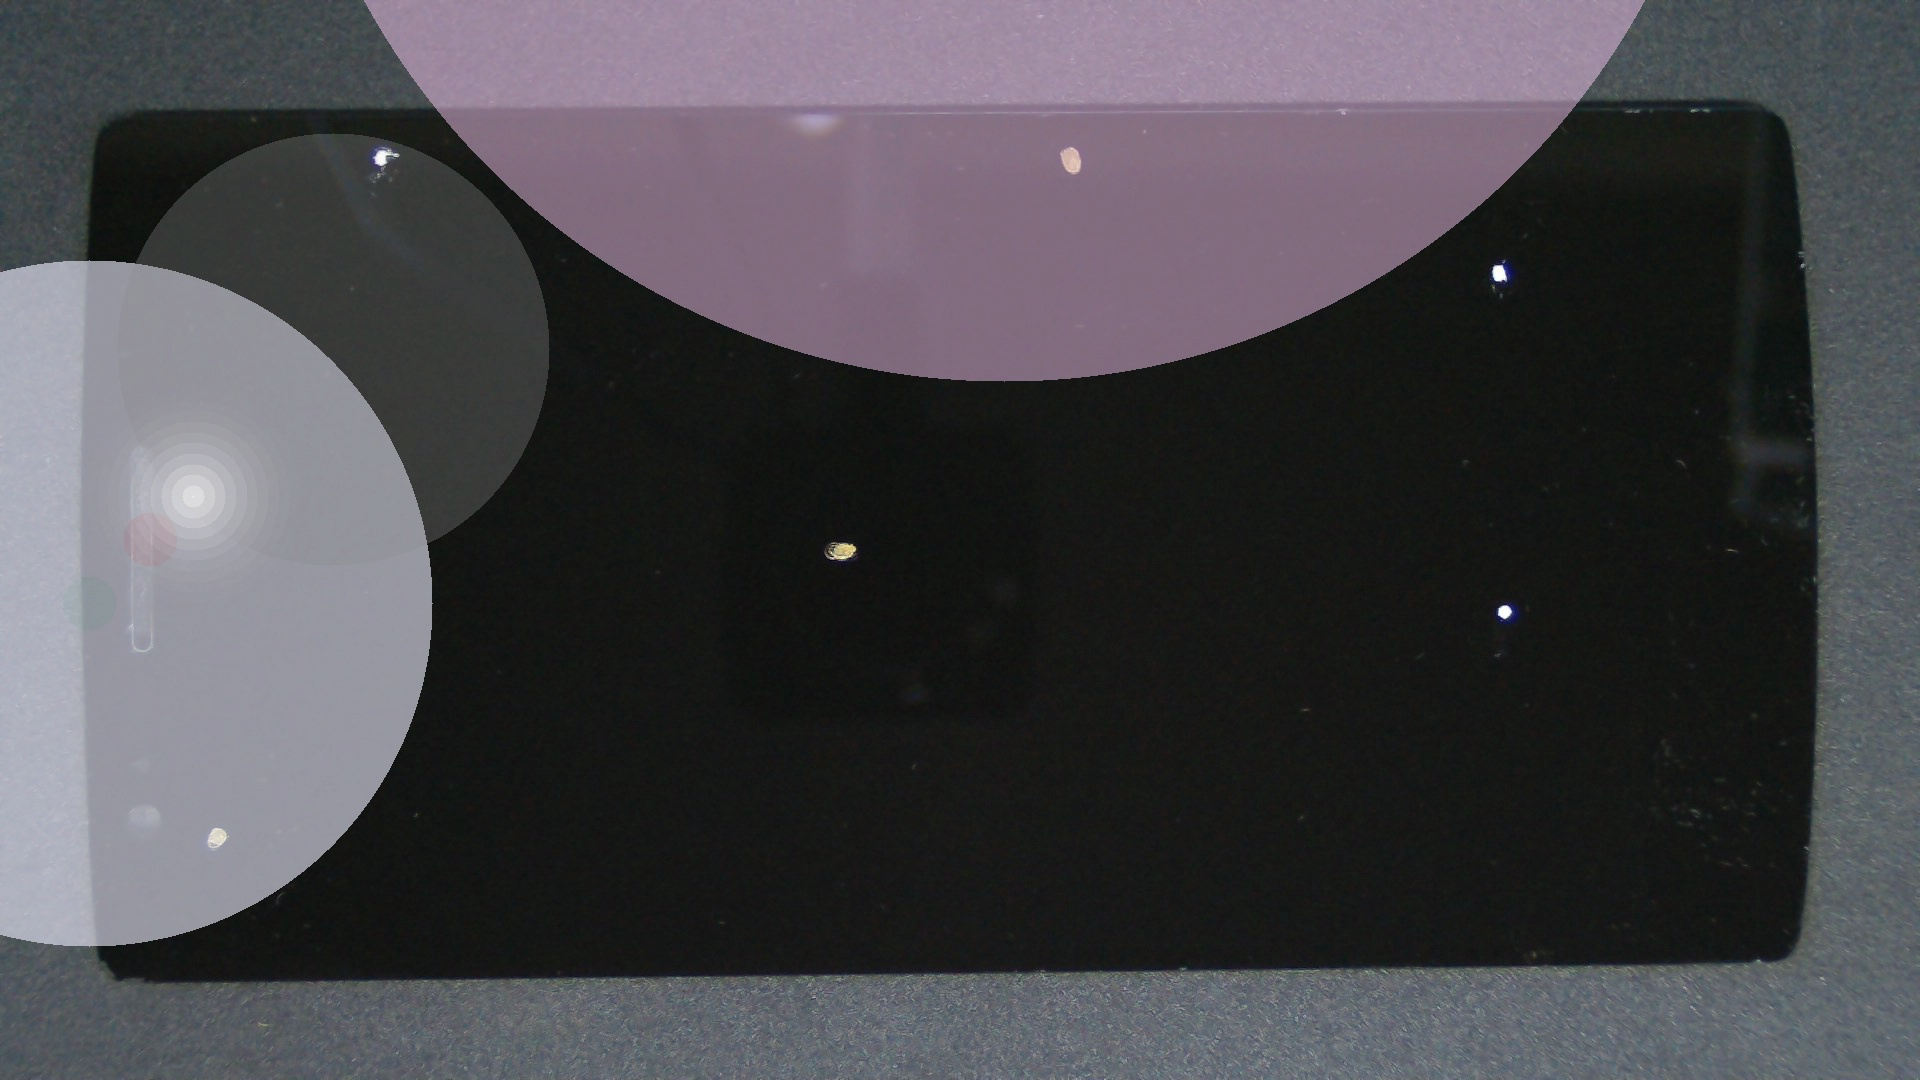oil: (753, 301, 1920, 903), (418, 269, 1254, 811), (752, 131, 1920, 393), (535, 73, 1605, 218), (105, 413, 314, 1080), (191, 70, 563, 219)
